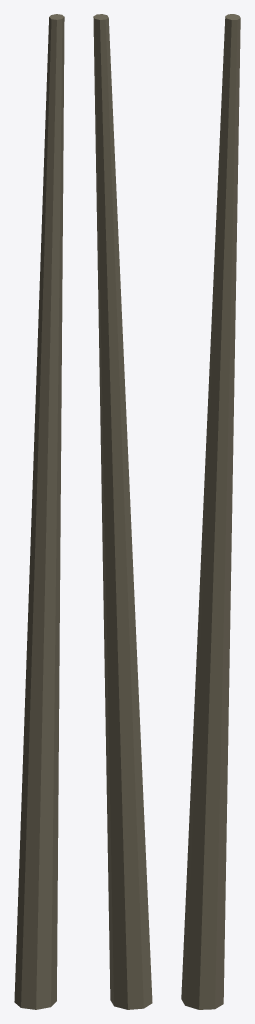
File: teaching3-vegetation-04-far.glb
3 renders of one model, left to right at view 1: azimuth 30°, elevation 25°; view 2: azimuth 150°, elevation 25°; view 3: azimuth 330°, elevation 25°, orthographic.
Parts seen in each view (by area): view 1: vegetation cedar trunk; view 2: vegetation cedar trunk; view 3: vegetation cedar trunk.
Part boxes in pixels (box(x1,y1,x2,y2)): vegetation cedar trunk: box(14, 14, 64, 1009); vegetation cedar trunk: box(93, 14, 152, 1009); vegetation cedar trunk: box(181, 14, 240, 1009).
Size of the model in its own units: 0.6428 by 12.01 by 0.4174.
